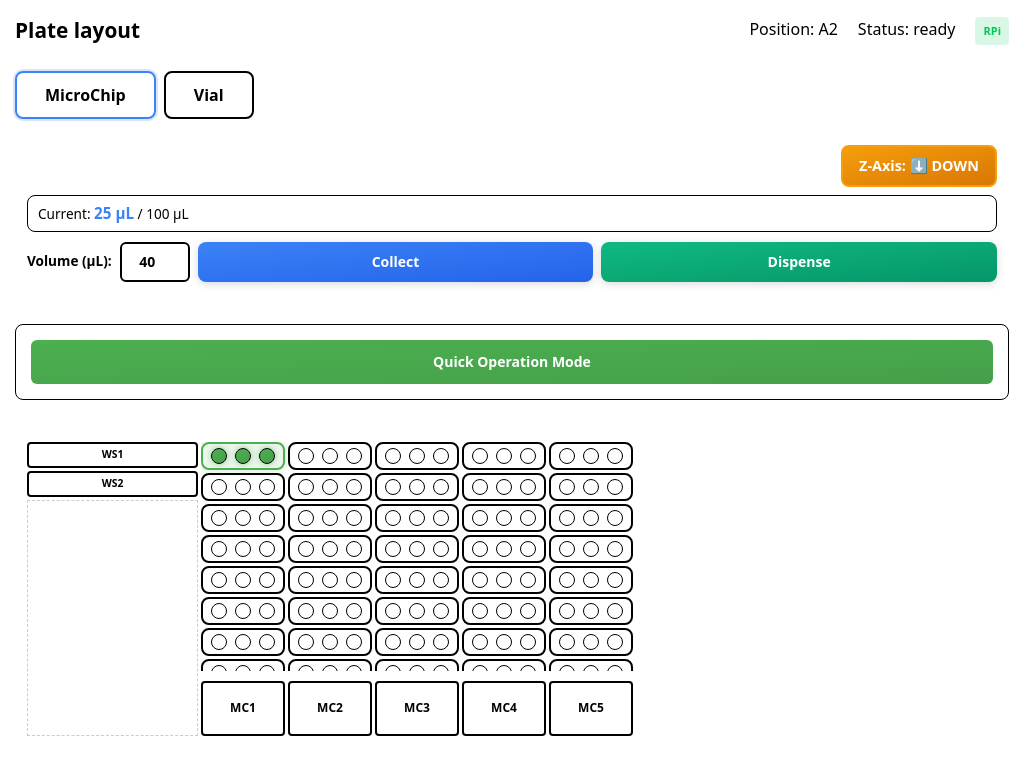
Test: PlateLayout › Quick Operation Mode › enables quick op mode and shows instructions on button click
This screenshot has width=1024, height=763.
Click the button "Quick Operation Mode" at (512, 362), box [31, 340, 993, 384]
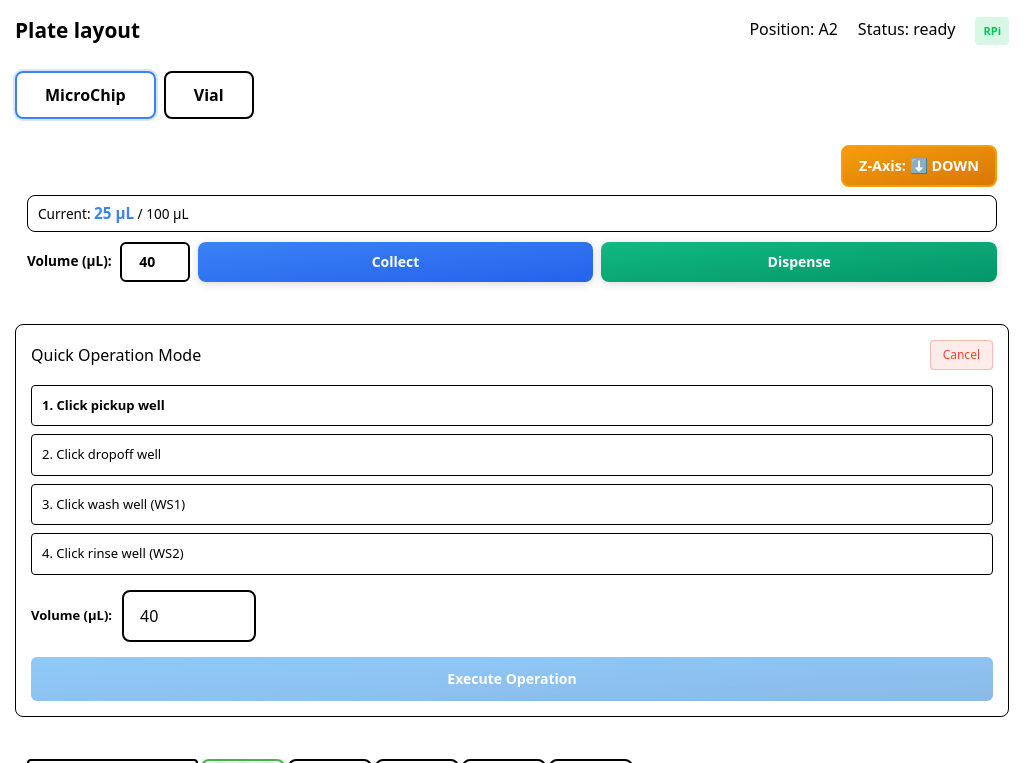
Result: the text "1. Click pickup well" is shown at [31, 385, 993, 426]
Result: the text "2. Click dropoff well" is shown at [31, 434, 993, 476]
Result: the text "3. Click wash well (WS1)" is shown at [31, 484, 993, 525]
